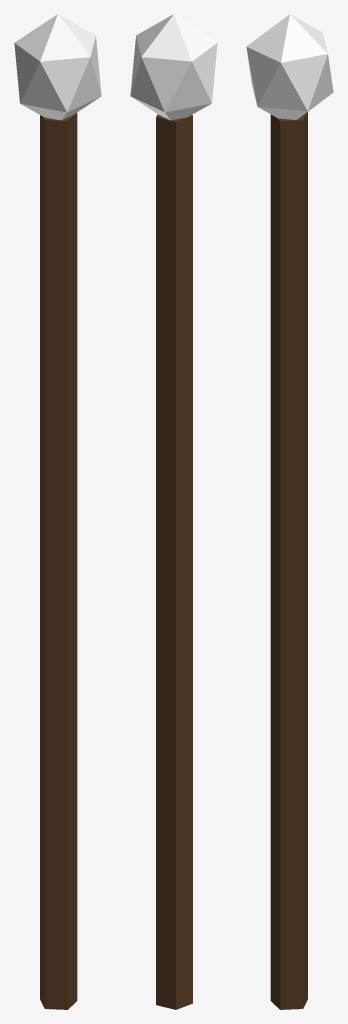
Rendered from tool_staff.glb.
3 views of the same model, side by side, from view 1: azimuth 30°, elevation 25°; view 2: azimuth 150°, elevation 25°; view 3: azimuth 330°, elevation 25° (orthographic).
Parts seen in each view (by area): view 1: part, part.001; view 2: part, part.001; view 3: part, part.001.
Part boxes in pixels (x1,y1,x2,y2): part: (40, 112, 77, 1009); part.001: (14, 14, 101, 120); part: (156, 114, 192, 1009); part.001: (130, 14, 217, 120); part: (270, 112, 307, 1009); part.001: (246, 14, 333, 119).
Bounding box in the file's own units: 0.0716 × 0.89 × 0.0681.
